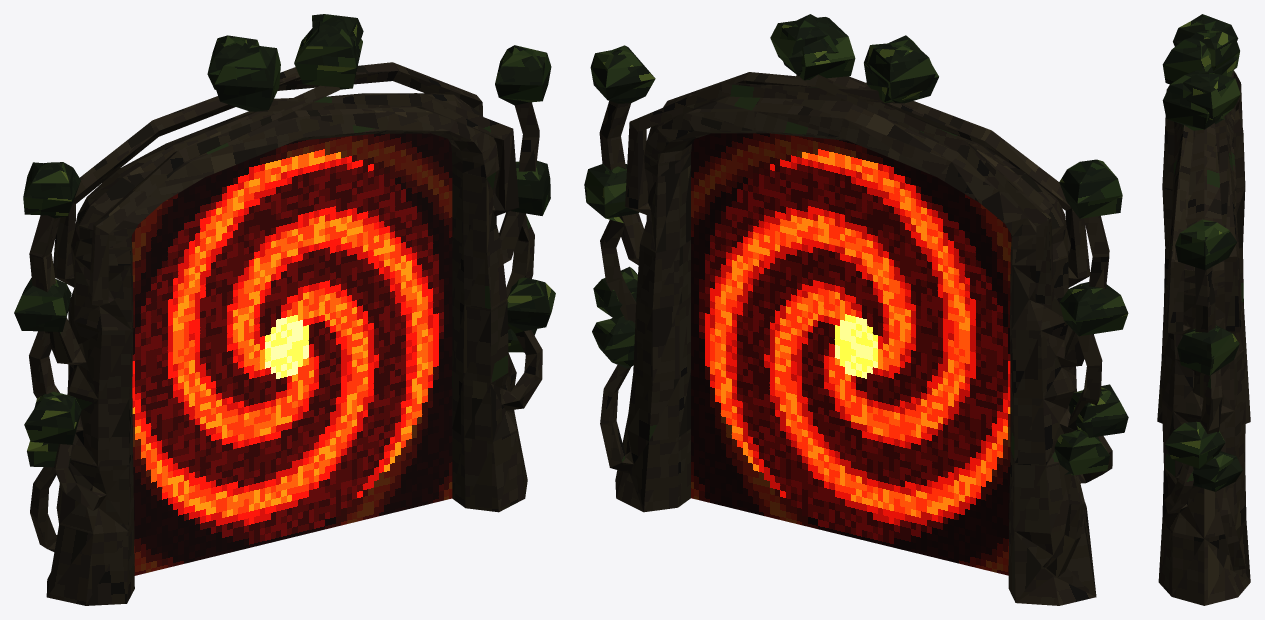
The model's file is forest_portal.glb.
3 views of the same model, side by side, from view 1: azimuth 30°, elevation 25°; view 2: azimuth 150°, elevation 25°; view 3: azimuth 270°, elevation 25° (orthographic). The views are drawn at different scales.
Visible parts, largest first — view 1: ForestPortal; view 2: ForestPortal; view 3: ForestPortal.
Part boxes in pixels (<box>): ForestPortal: <box>14,14,555,605</box>; ForestPortal: <box>584,14,1128,605</box>; ForestPortal: <box>1157,14,1250,605</box>.
Size of what is drawn, in the model's own units: 4.41 by 3.97 by 0.7488.
Materials: 1 (1 with a texture image).
